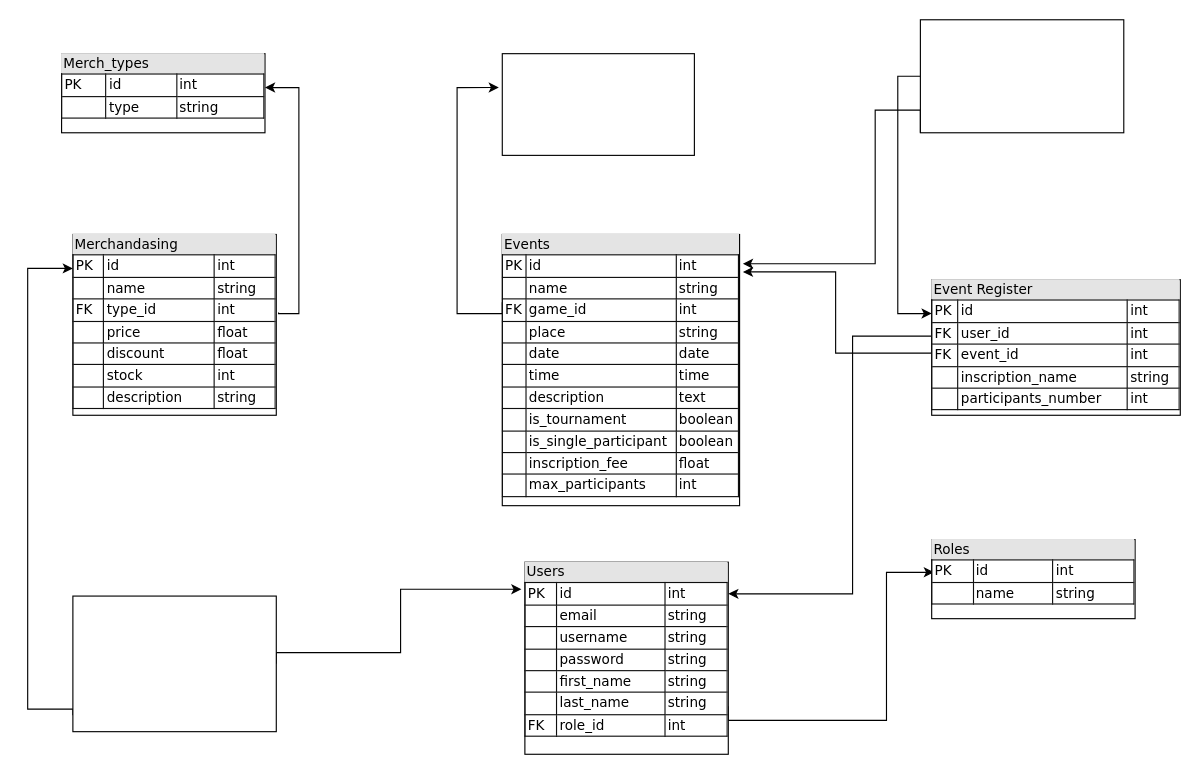
This 1200x774 diagram has some shape labels left out. Here are the shapes that lost their labels. From the top down, the centre of each, then its label:
(x=1021, y=76): Tournaments PK id int FK winner_id string rewards string Fk event_id string
(x=597, y=104): Games PK id int names string acronym string
(x=174, y=663): Purchases PK id int FK user_id int price float date date FK merch_id int
